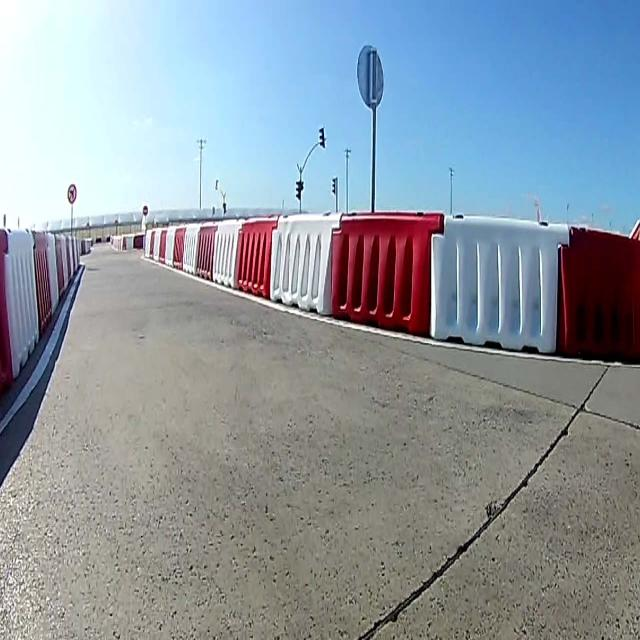soladonulmez: (68, 181, 76, 203)
